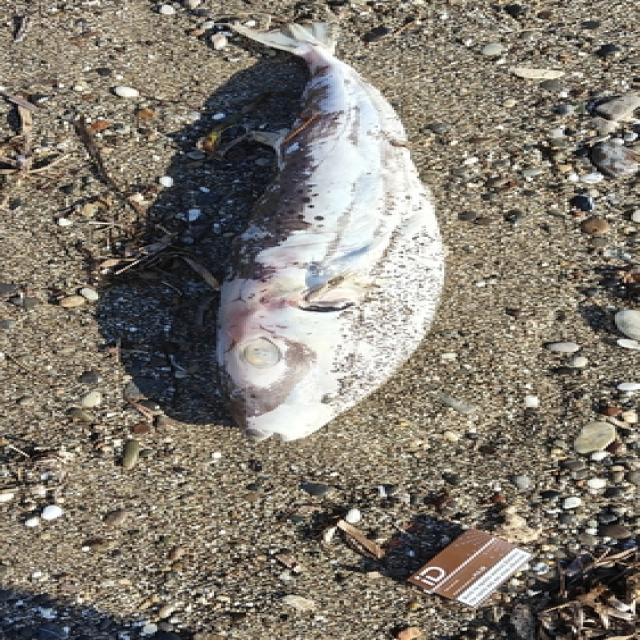Balik: (217, 24, 444, 440)
